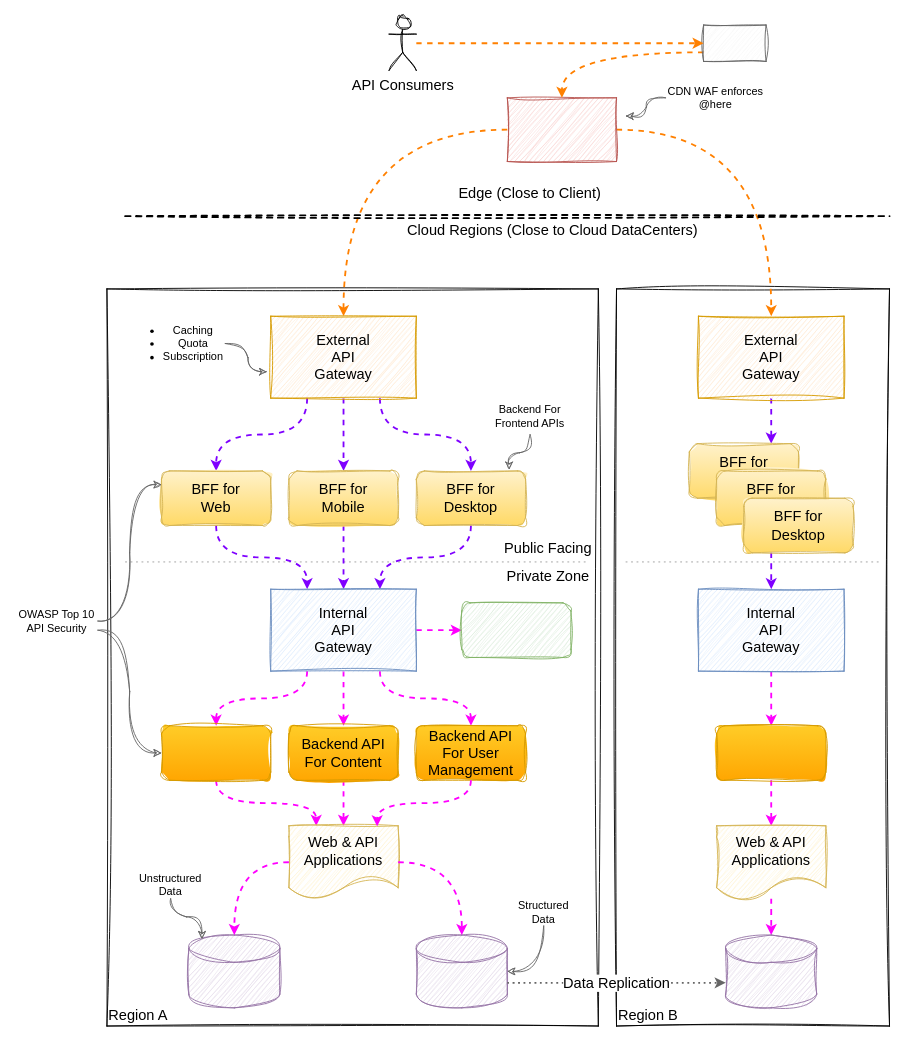
Some shapes in this 906 by 1042 pixel diagram are drawn without their labels. The shapes that lost their labels are listed below. From the top down, each one's centre as x and y in pixels, then its label:
At (734,42): "DNS".
At (561,129): "CDN".
At (516,629): "Cloud Native Services APIs".
At (216,752): "Backend API For Payment".
At (771,752): "Backend APIs".
At (234,971): "Cloud Storages".
At (461,971): "DataBases".
At (771,971): "Storages".
